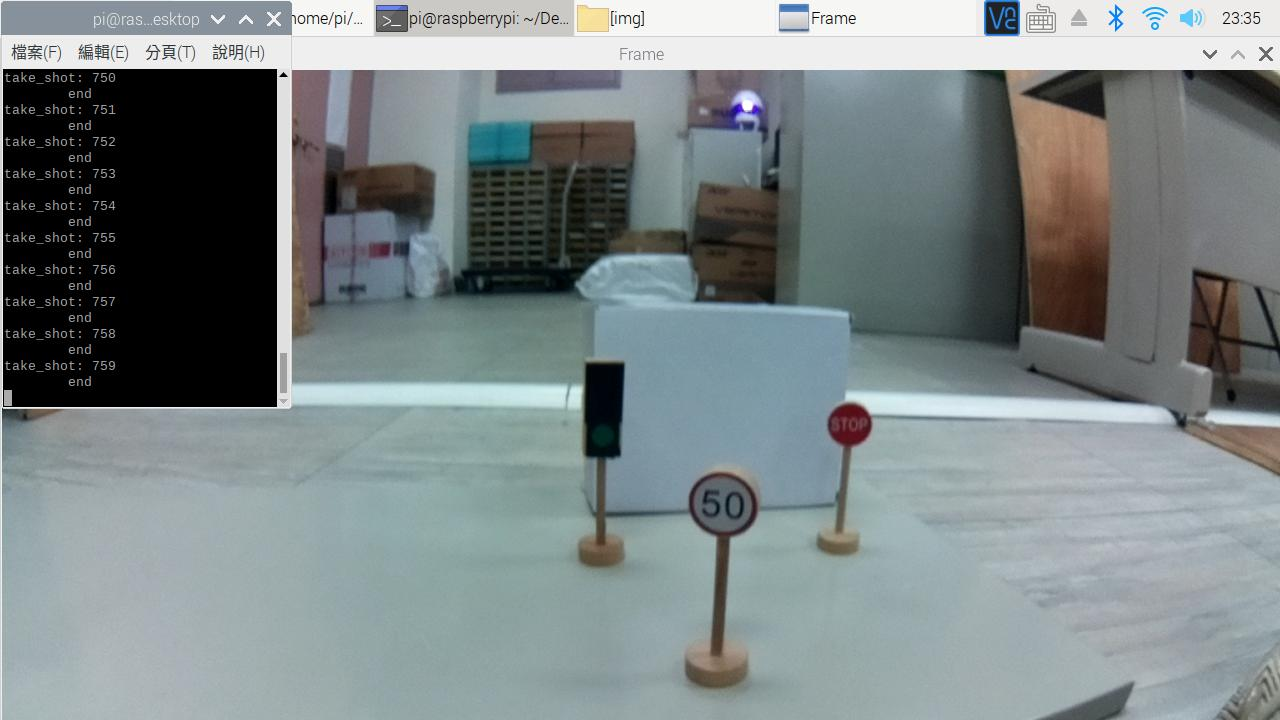Green: (555, 357, 661, 472)
Speed50: (678, 459, 786, 544)
Stop: (811, 399, 881, 448)
